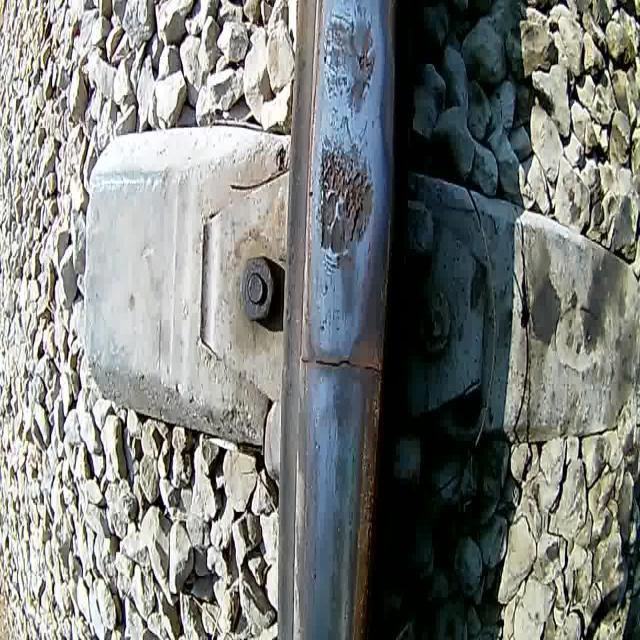Cracks: (325, 102, 372, 154), (326, 378, 344, 504), (346, 446, 358, 574), (326, 2, 376, 32), (358, 49, 379, 109), (317, 248, 343, 275), (330, 550, 338, 610)
Joint: (288, 329, 392, 386)
Spallings: (316, 140, 375, 256), (322, 27, 352, 99), (356, 38, 374, 78)
Squats: (313, 101, 378, 322), (318, 0, 381, 117), (327, 377, 357, 440), (324, 565, 346, 640), (331, 446, 354, 512), (328, 515, 349, 567)
